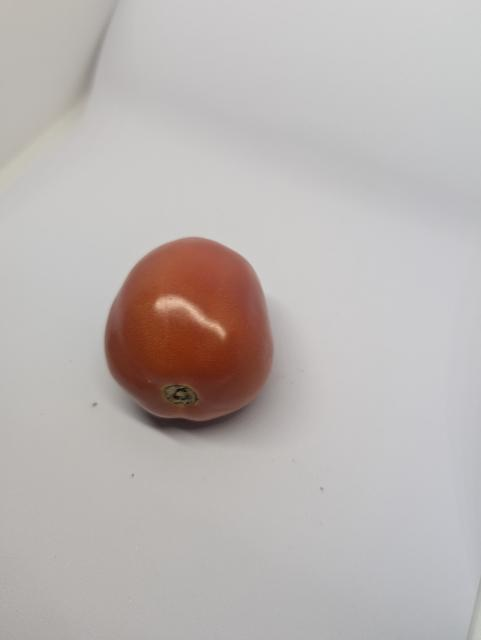red: (101, 234, 280, 426)
